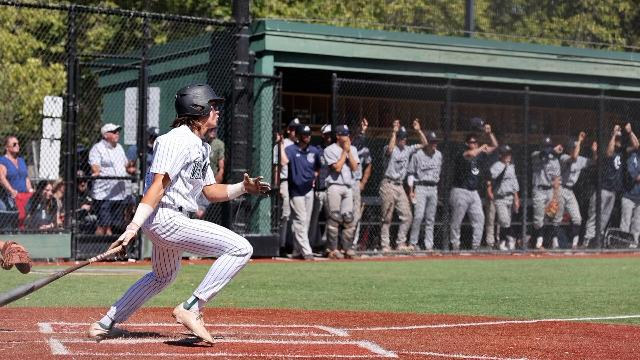baseball bat: (0, 246, 124, 314)
